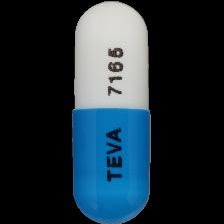68084-969: (0, 0, 224, 224)
